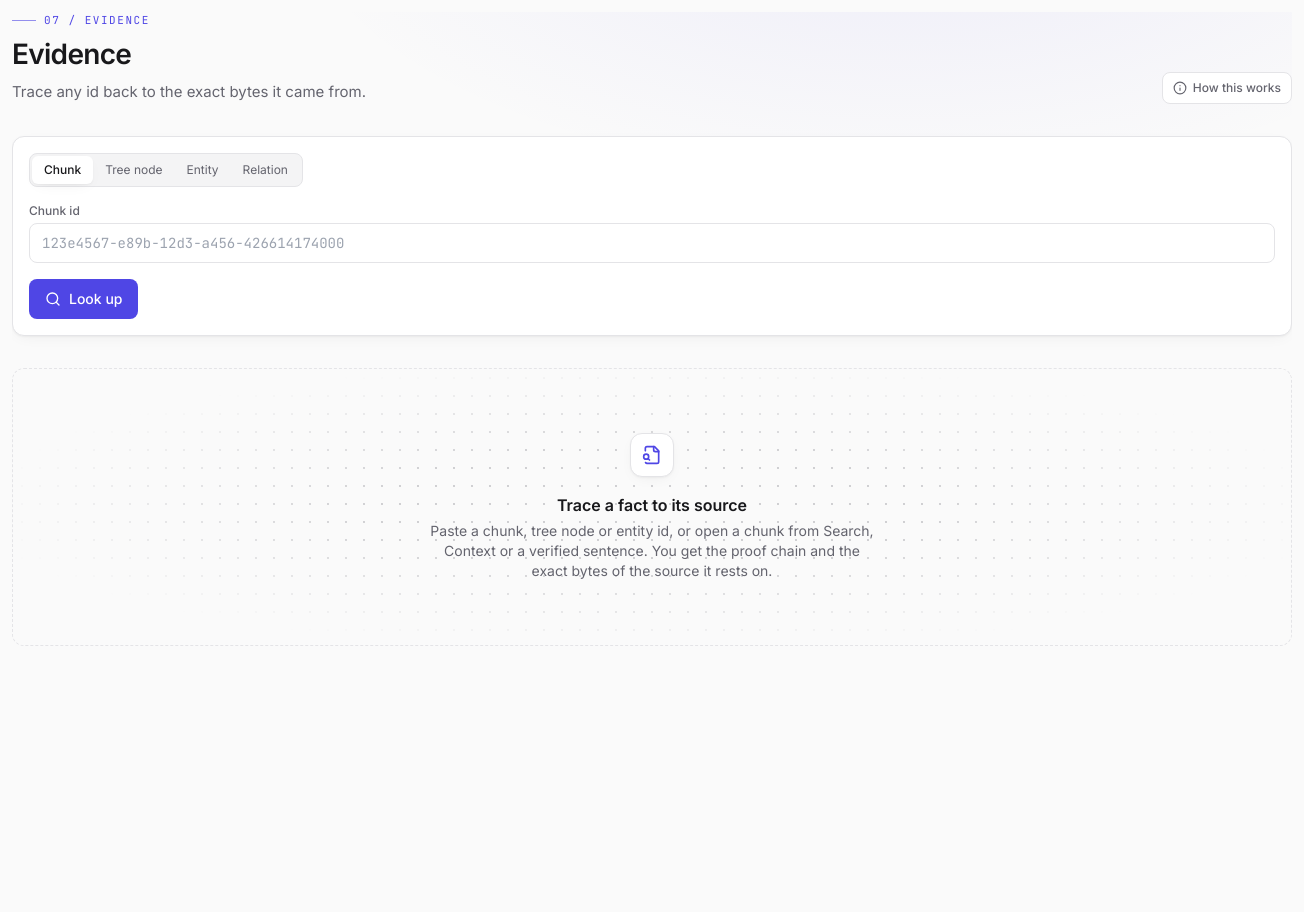
it: EvidencePage › rejects_a_bad_uuid_without_a_request
This screenshot has width=1304, height=912.
Step 1. Type "nope" into the field labelled "Chunk id" → (652, 243), box [29,223,1275,263]
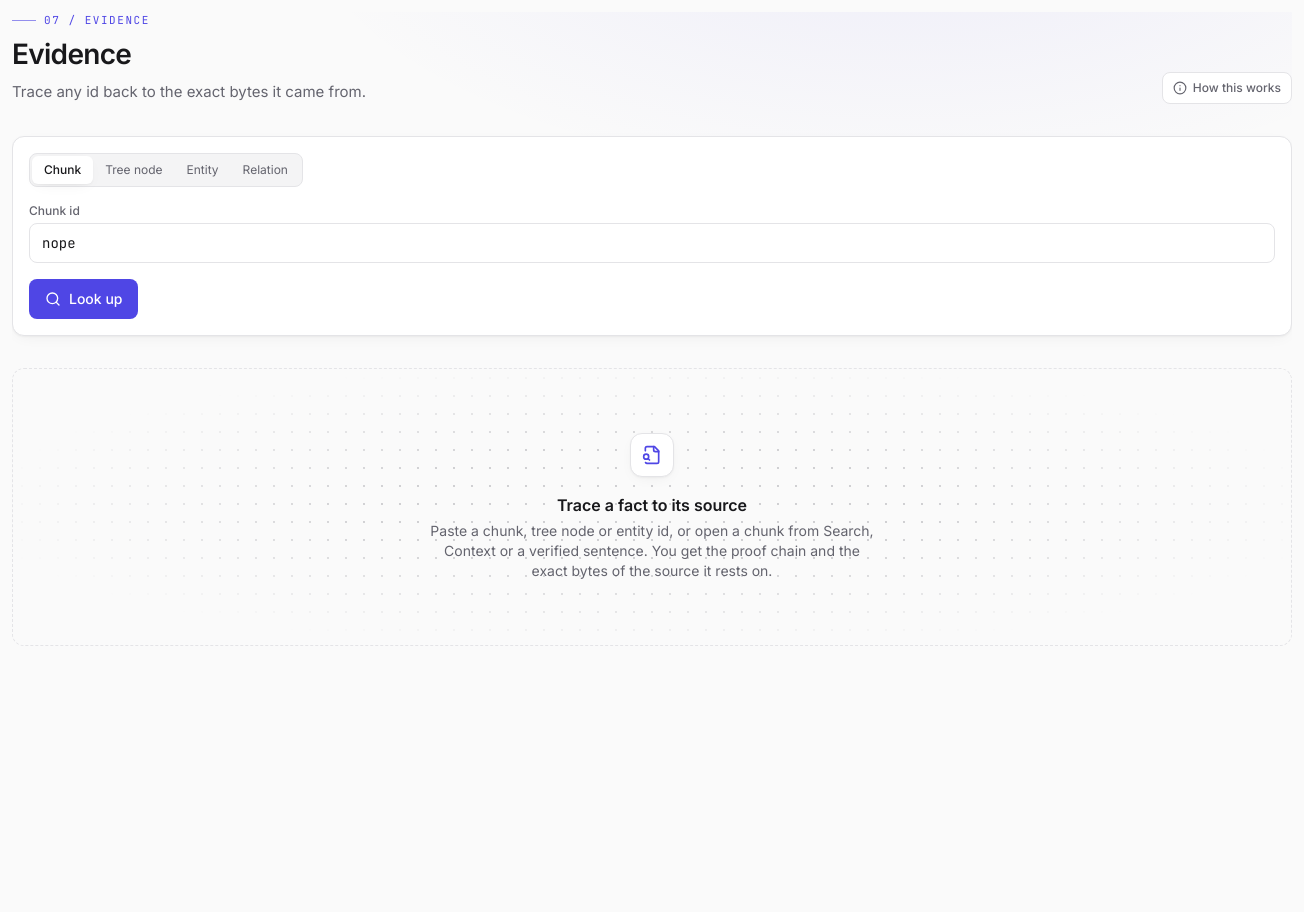
Step 2. Click the button "Look up" → (84, 299), box [29,279,138,319]
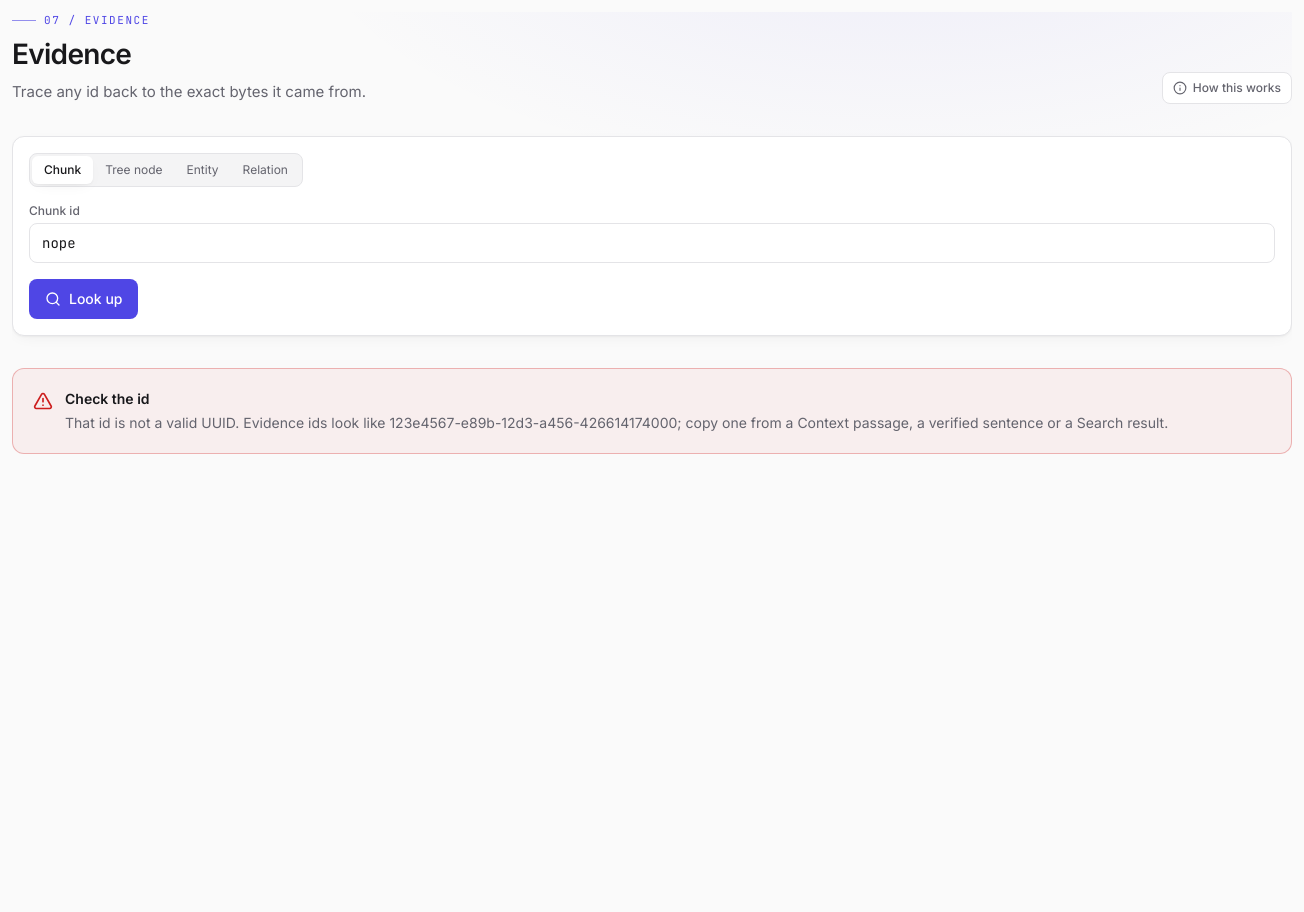
Result: the message shows "not a valid UUID" at [65,414,1168,431]
